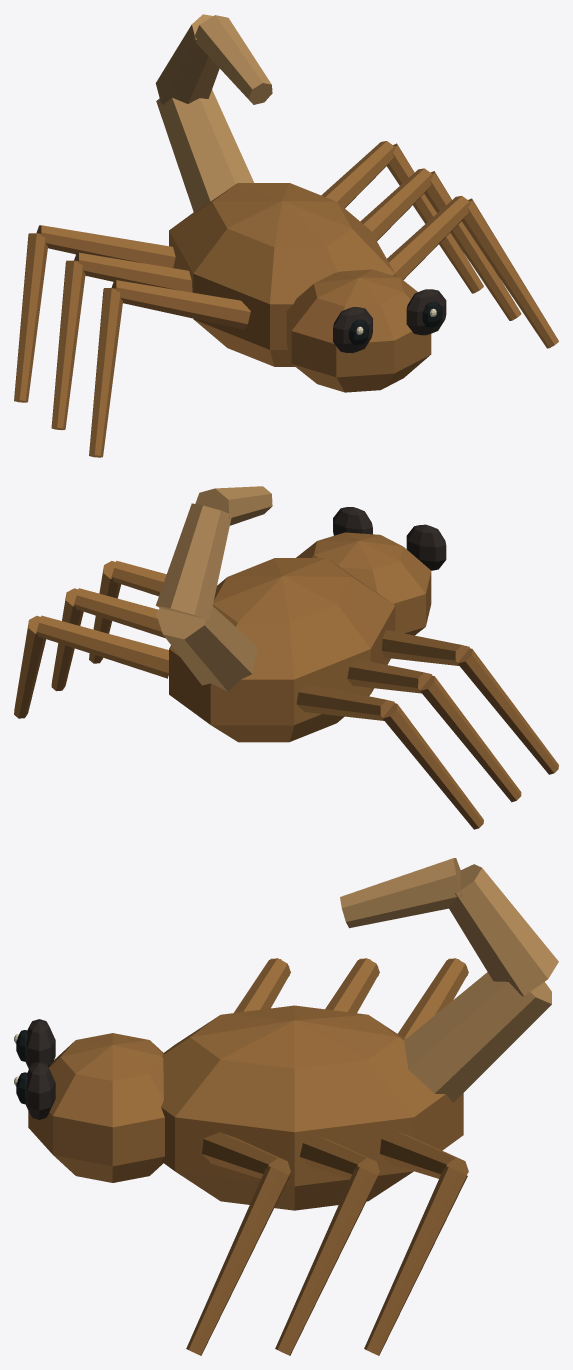
Rendered from fauna-dune_crawler.glb.
The picture shows the model from 3 angles, top to bottom: view 1: azimuth 30°, elevation 25°; view 2: azimuth 150°, elevation 25°; view 3: azimuth 270°, elevation 25°; orthographic projection. The views are drawn at different scales.
Parts seen in each view (by area): view 1: Fauna_dune_crawler; view 2: Fauna_dune_crawler; view 3: Fauna_dune_crawler.
Part boxes in pixels (box(x1,y1,x2,y2)): Fauna_dune_crawler: box(14, 14, 558, 457); Fauna_dune_crawler: box(14, 486, 558, 829); Fauna_dune_crawler: box(14, 858, 558, 1355).
Bounding box in the file's own units: 1.66 × 1.04 × 1.41.
